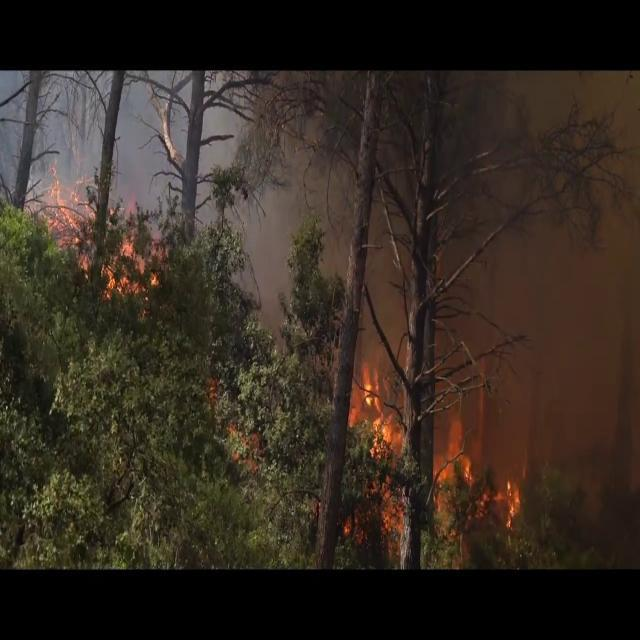Fire: (346, 358, 476, 552), (31, 161, 150, 299), (494, 471, 524, 533)
Smoke: (435, 71, 640, 520), (241, 116, 416, 352)
